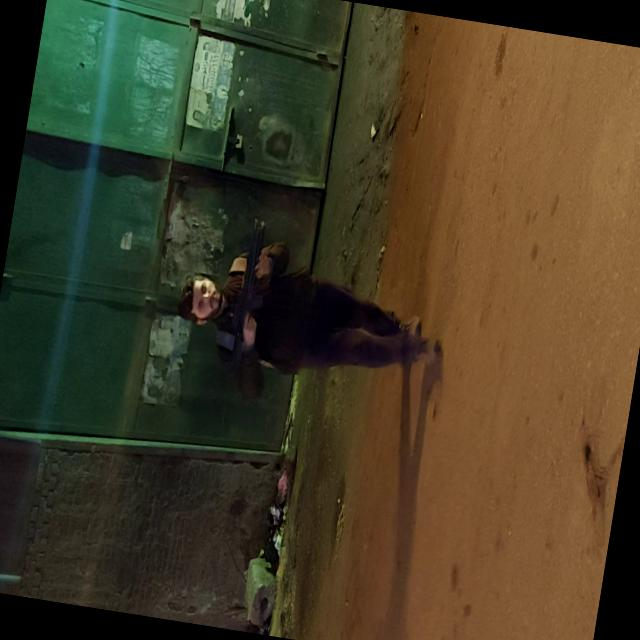long weapon: (218, 210, 284, 383)
